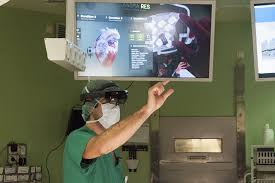hololens: (75, 90, 130, 108)
